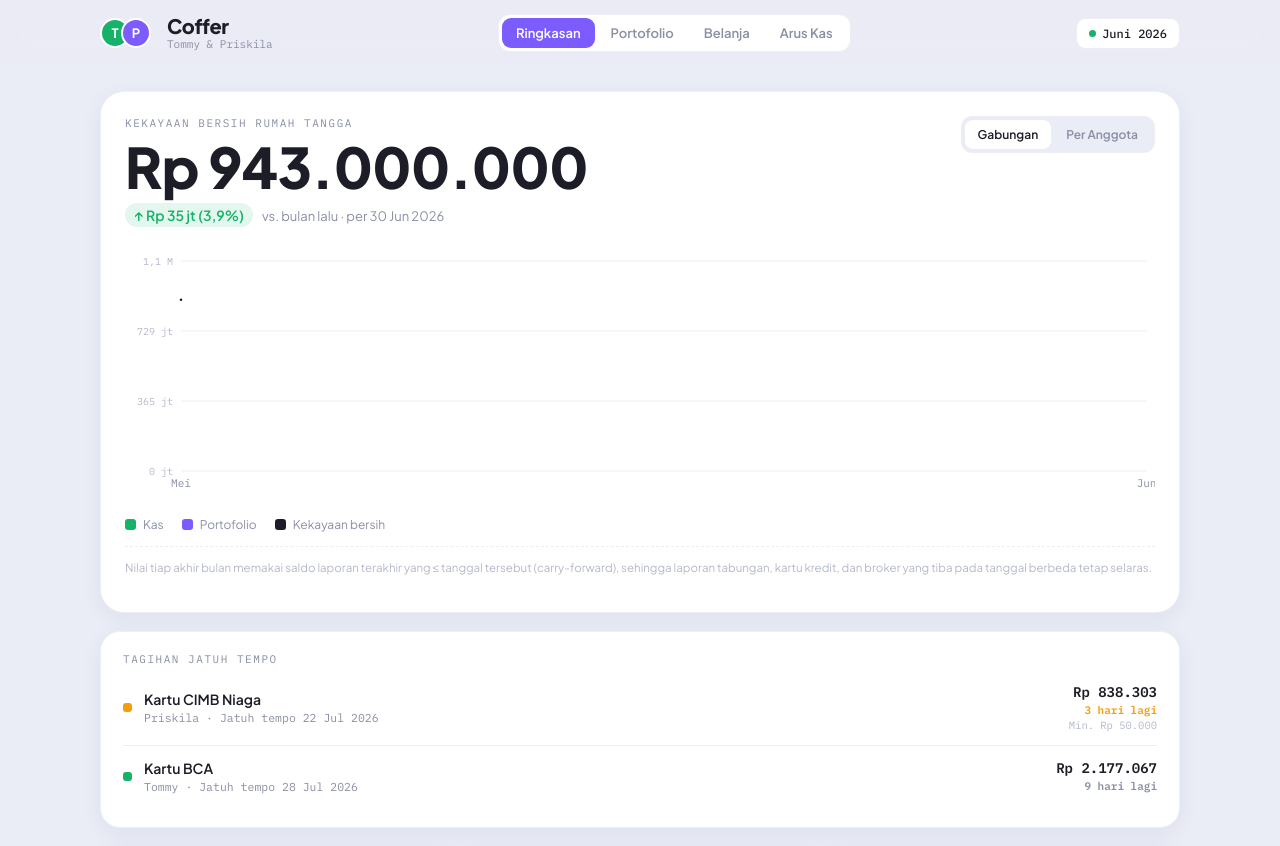
Test: App / Ringkasan › shows consolidated holdings on the Portofolio tab
Check: the heading "Rp 943.000.000" is shown, box top-left (125, 138), bottom-right (588, 195)
Step 1. Click the button "Portofolio" → (642, 33), box top-left (596, 18), bottom-right (688, 48)
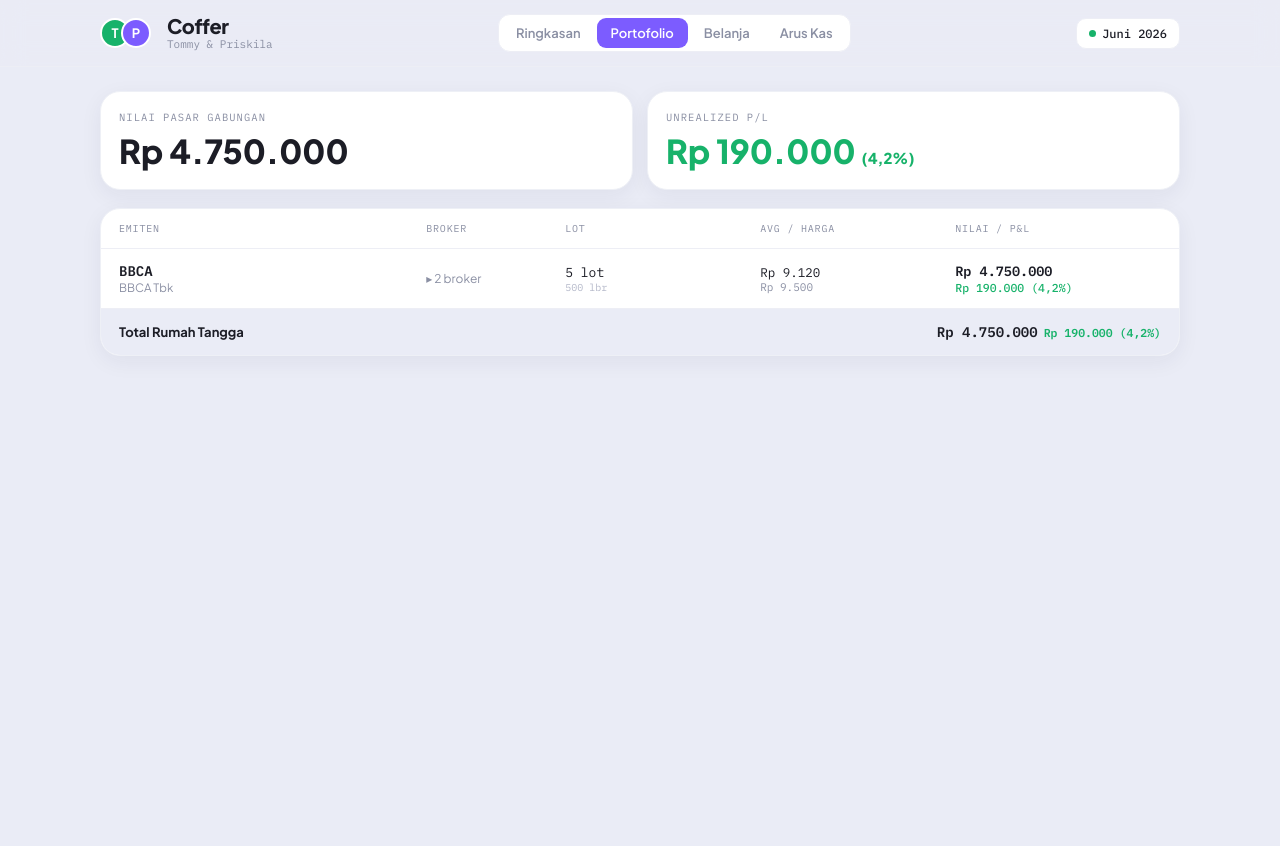
Check: the text "BBCA" is shown, box top-left (119, 262), bottom-right (153, 280)
Check: the text "Nilai Pasar Gabungan" is shown, box top-left (119, 110), bottom-right (266, 124)
Check: the text "Total Rumah Tangga" is shown, box top-left (119, 324), bottom-right (244, 340)
